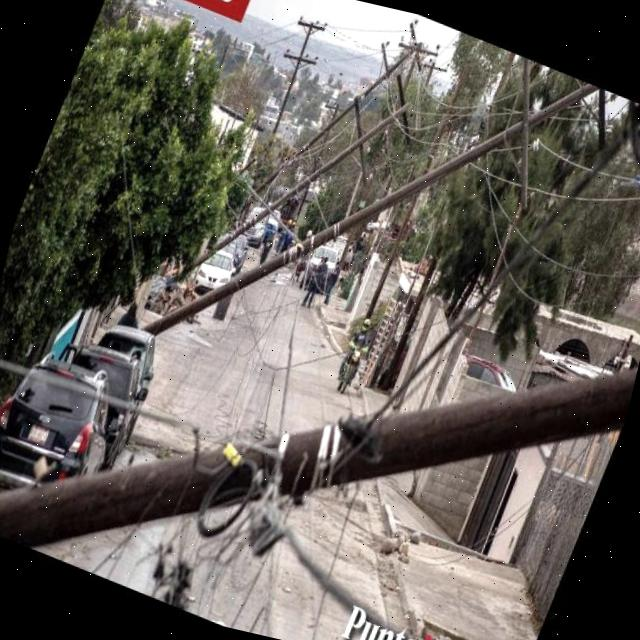Broken Pole: (139, 57, 610, 338), (0, 360, 639, 546), (178, 65, 420, 278), (241, 18, 426, 223)
